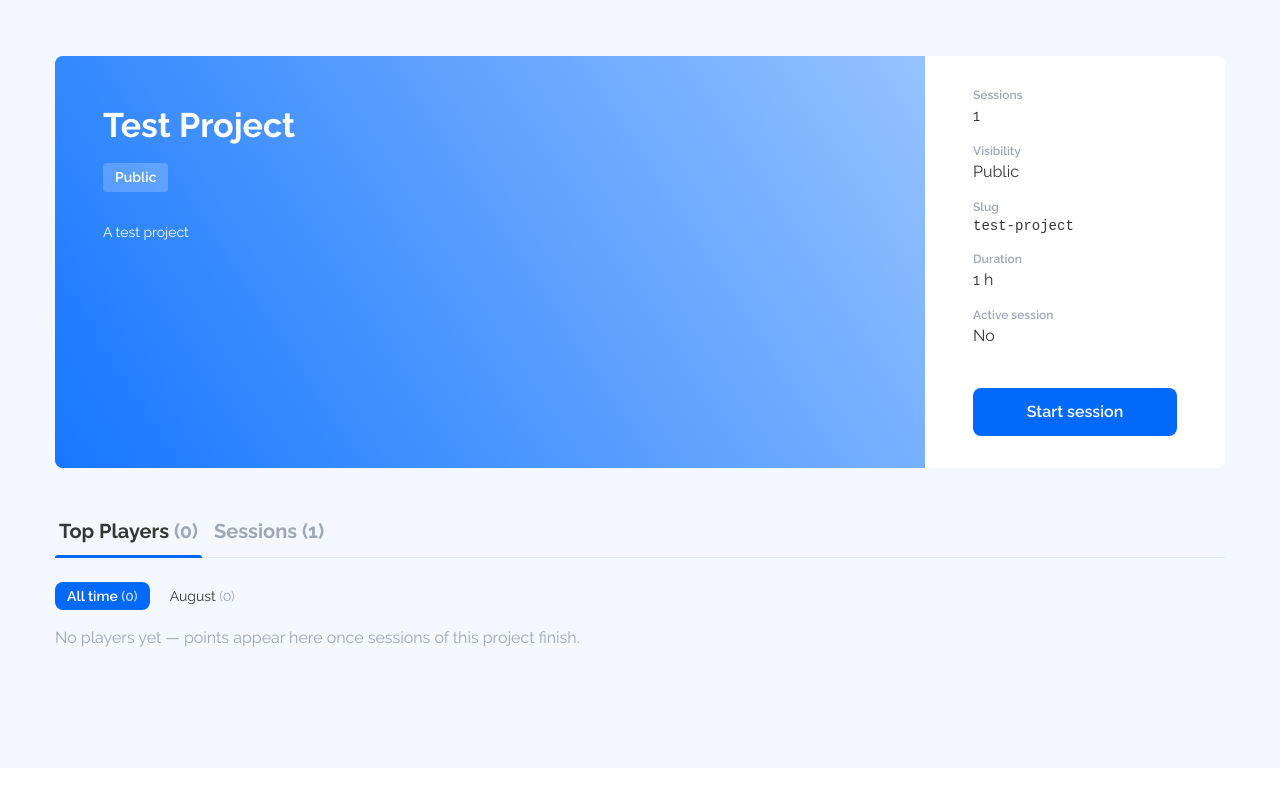
routes/projects/[slug]/+page.svelte › shows a negative winning score, which judges can produce
The image size is (1280, 800).
Click the tab "Sessions (1)" at (269, 537), box [210,516,328,558]
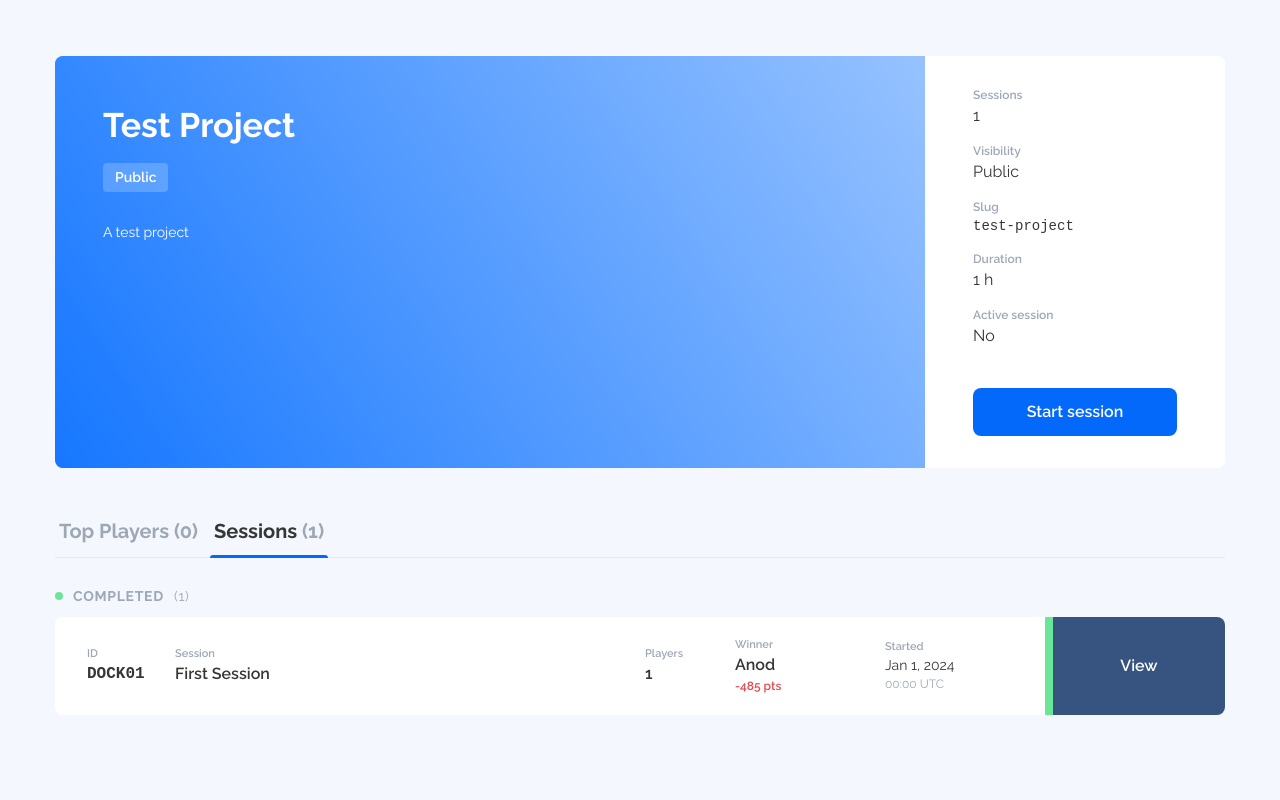
Now the text "-485 pts" is shown, box [735,679,781,693]
